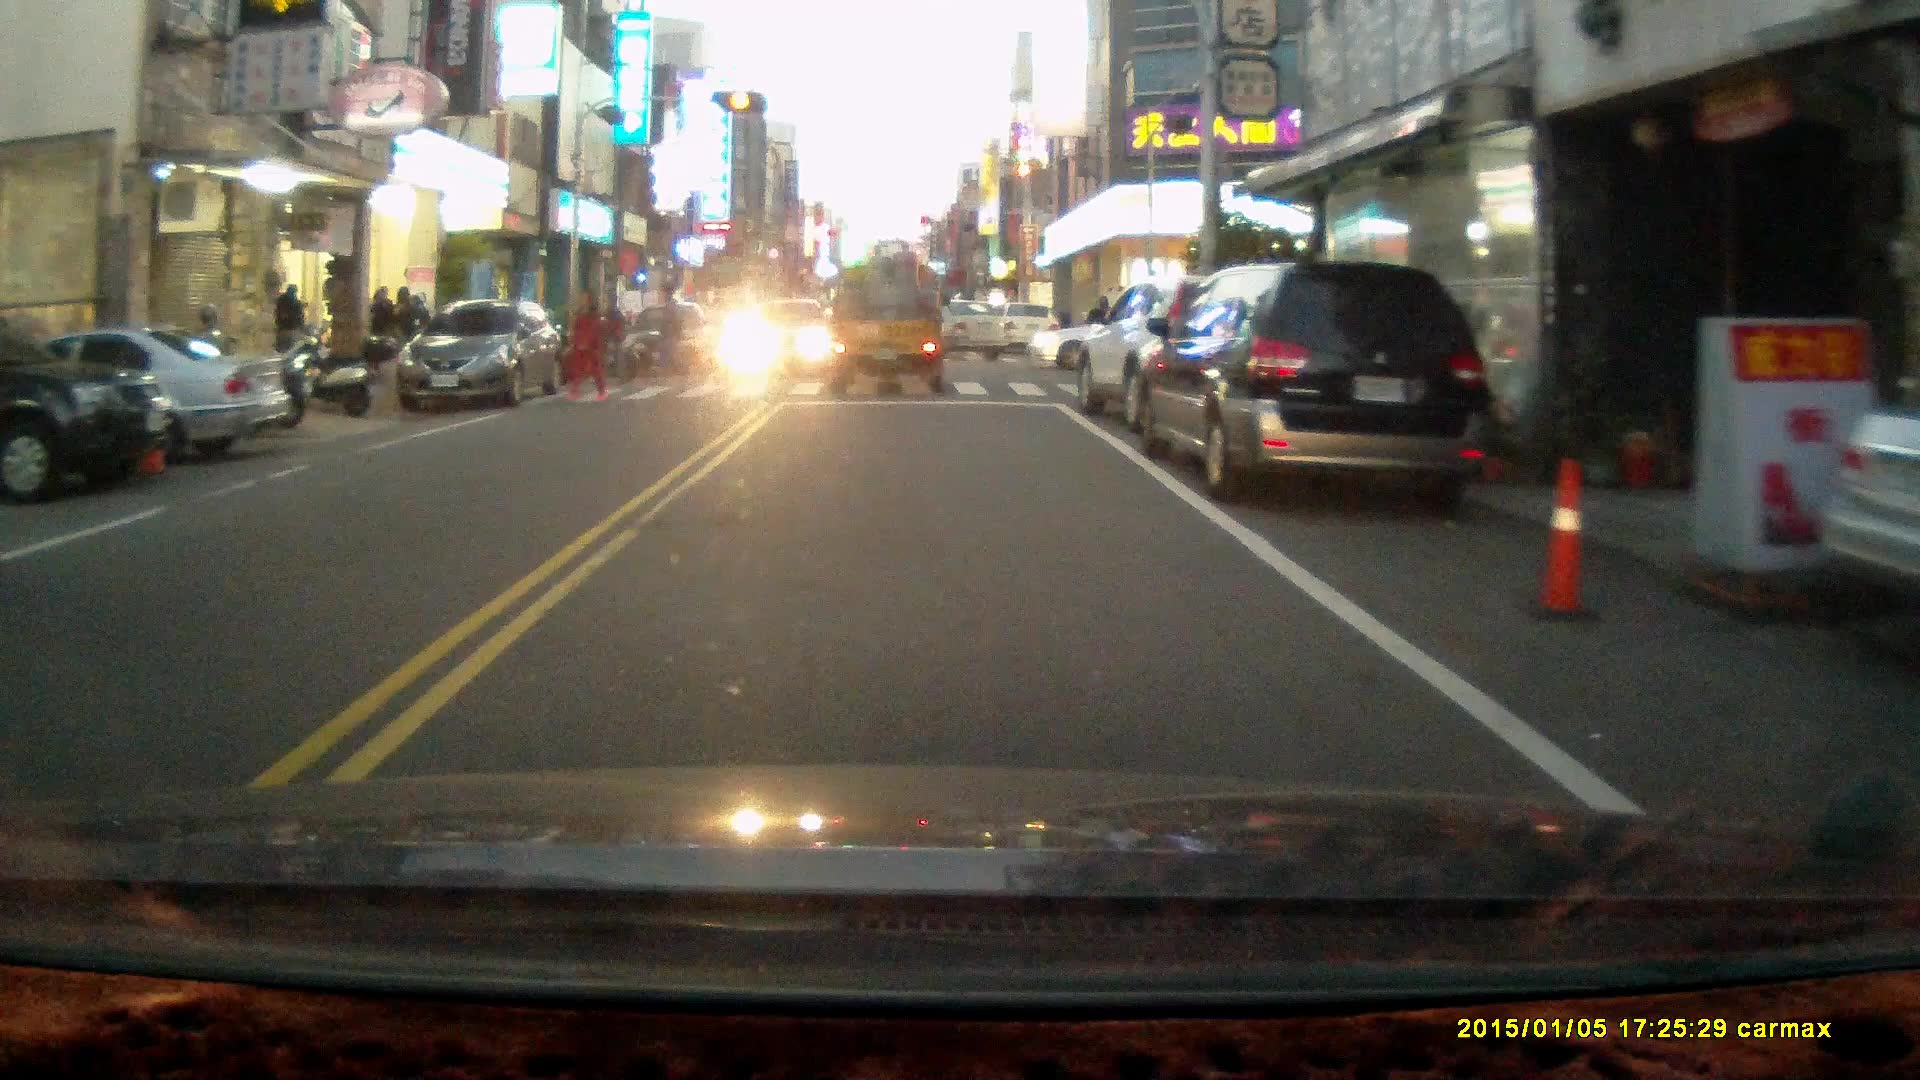pedestrian: (560, 282, 610, 398), (648, 279, 692, 385), (272, 279, 308, 370)
vehicle: (1131, 256, 1496, 498), (1, 326, 307, 470), (1071, 275, 1328, 432), (1, 314, 178, 504), (819, 233, 957, 392), (397, 298, 567, 410), (721, 290, 826, 365), (893, 300, 1013, 364), (620, 303, 718, 375)
